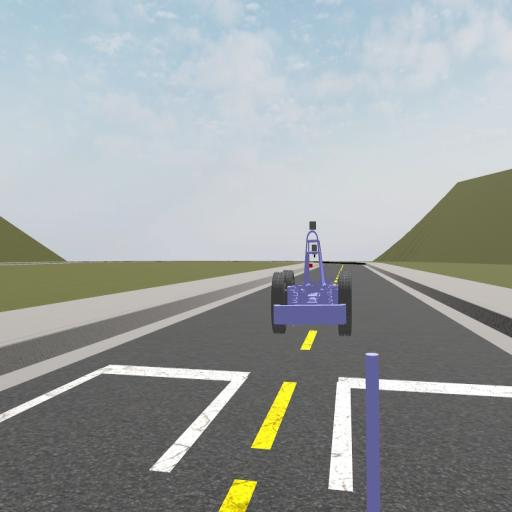ERP-42: (272, 220, 352, 335)
